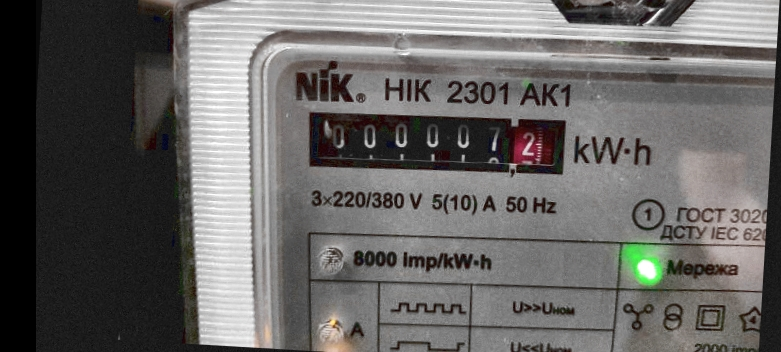0: (329, 121, 348, 149), (392, 119, 410, 148), (361, 121, 379, 149), (424, 120, 442, 148), (455, 121, 472, 150)
2: (520, 130, 538, 157)
7: (486, 122, 503, 153)
screen: (295, 98, 579, 186)
